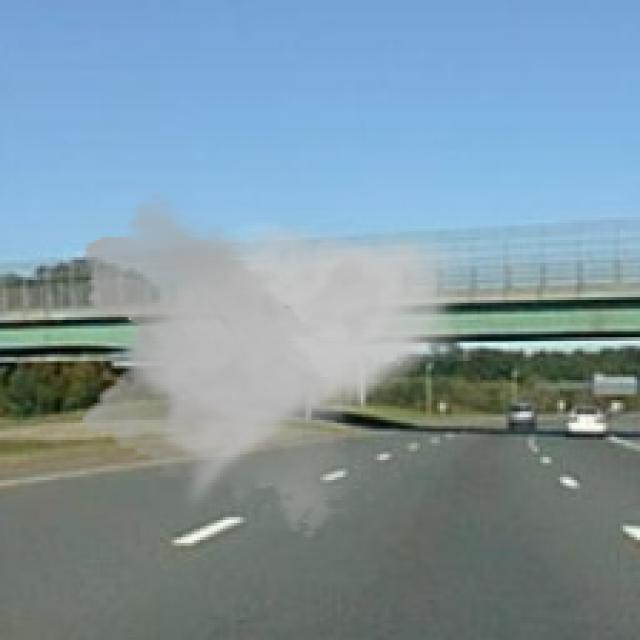Smoke: (72, 191, 477, 540)
